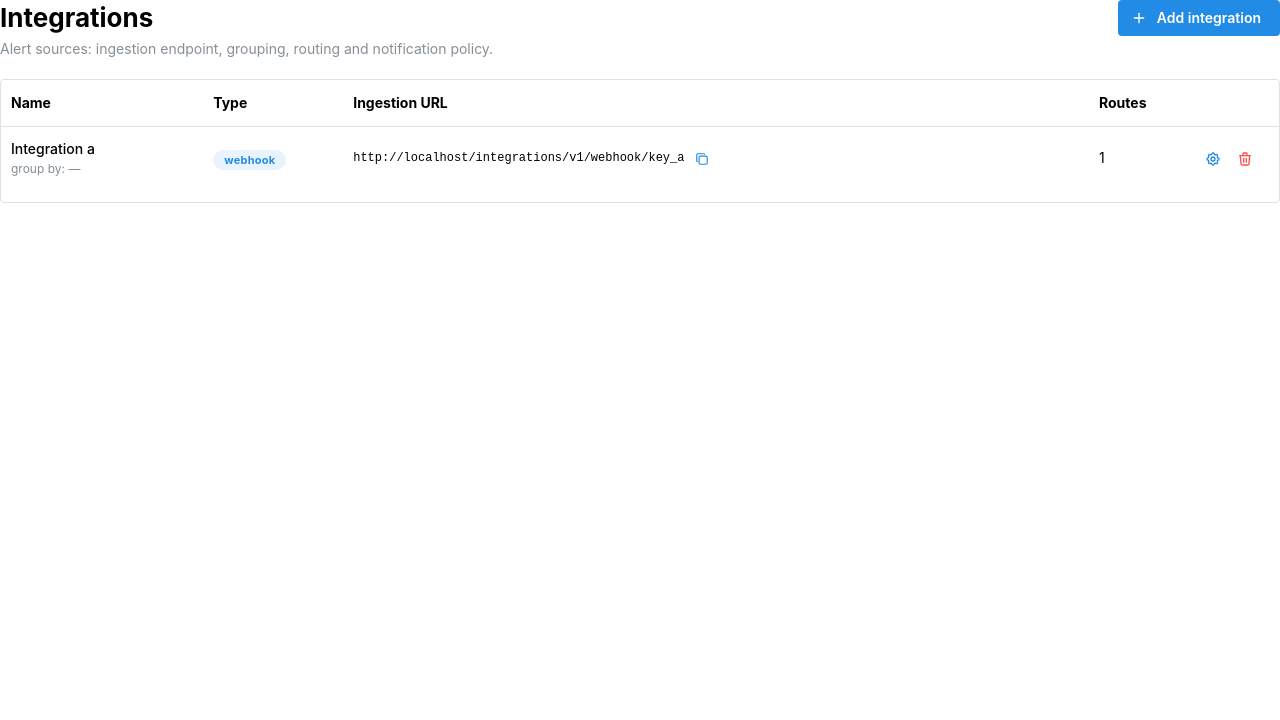
Scenario: IntegrationsPage › opens the create form
expect the link "Integration a" is shown: met, box [11, 140, 95, 157]
Click the button "Add integration": x=1199, y=18 [1118, 0, 1279, 36]
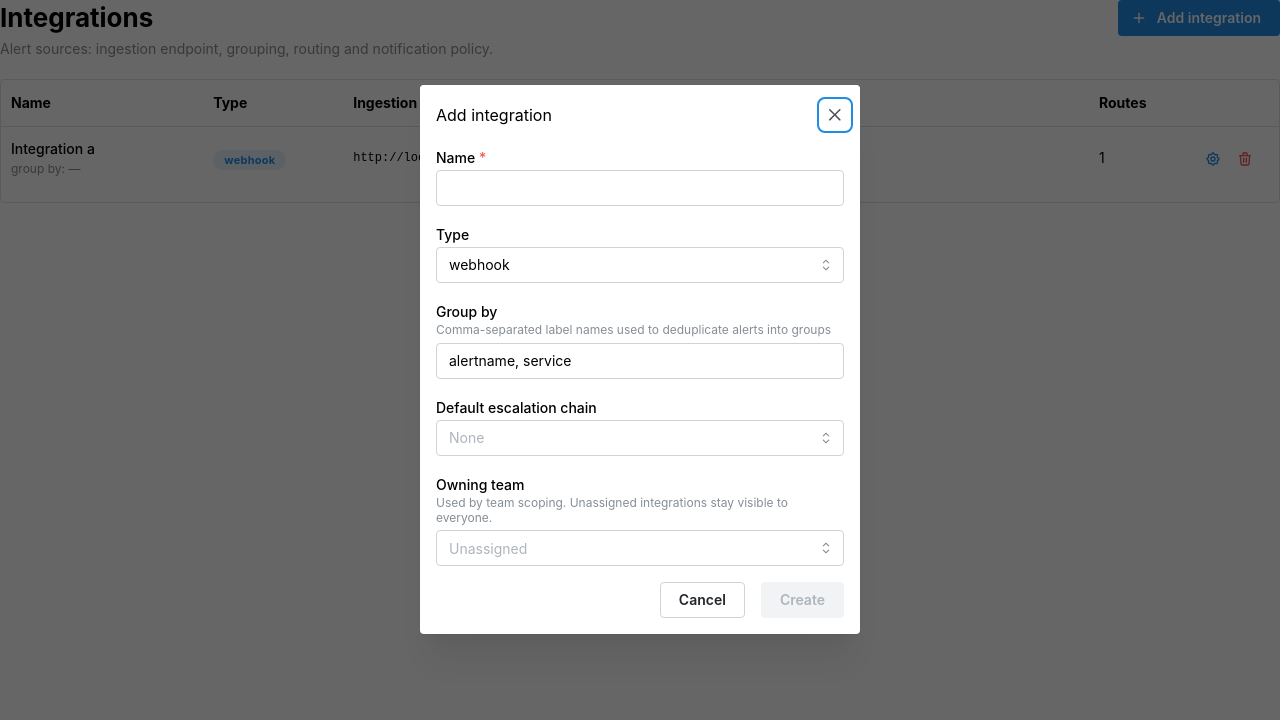
expect the field labelled "Name *" is shown: met, box [436, 170, 844, 206]
